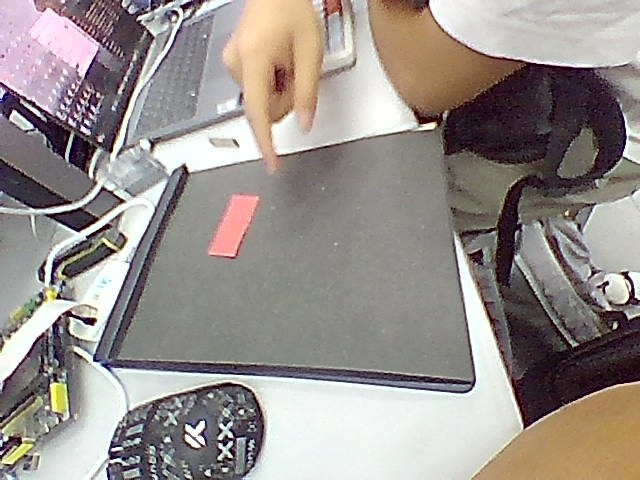card: (209, 195, 259, 257)
